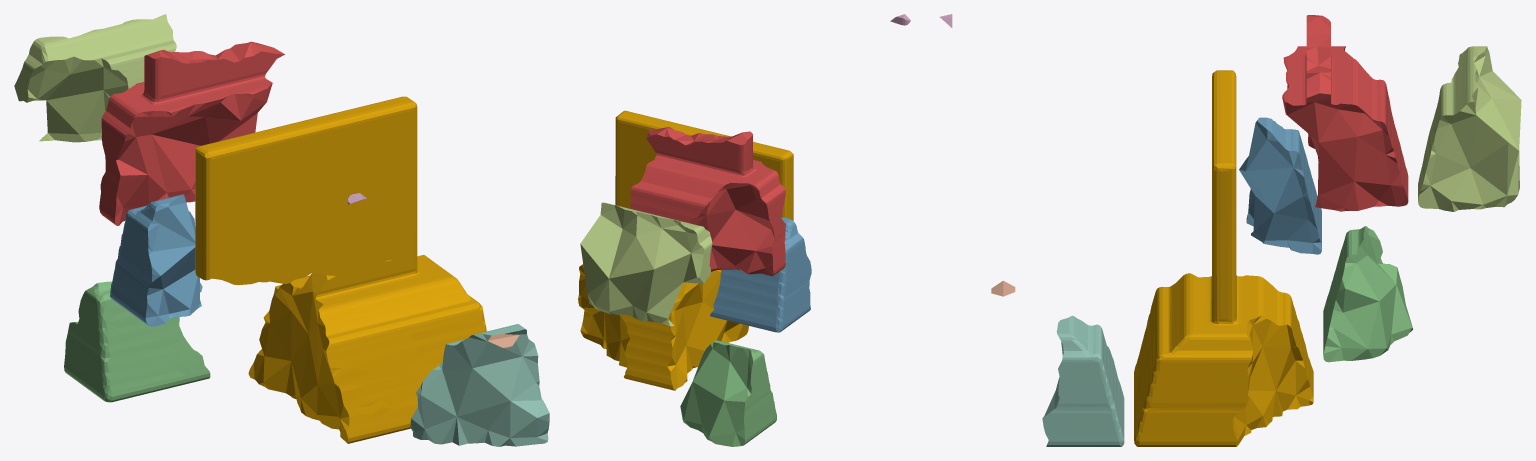
Rendered from fractured_12_8pcs_transformed.glb.
3 renders of one model, left to right at view 1: azimuth 30°, elevation 25°; view 2: azimuth 150°, elevation 25°; view 3: azimuth 270°, elevation 25°, orthographic. The views are drawn at different scales.
Parts seen in each view (by area): view 1: piece_0.obj, piece_1.obj, piece_4.obj, piece_5.obj, piece_3.obj, piece_2.obj; view 2: piece_1.obj, piece_0.obj, piece_5.obj, piece_3.obj, piece_2.obj; view 3: piece_0.obj, piece_1.obj, piece_5.obj, piece_3.obj, piece_2.obj, piece_4.obj.
Boxes of the visible parts, left/top/right/bottom form: piece_0.obj: left=195, top=96, right=486, bottom=443; piece_1.obj: left=99, top=41, right=284, bottom=225; piece_4.obj: left=410, top=324, right=549, bottom=446; piece_5.obj: left=14, top=14, right=176, bottom=142; piece_3.obj: left=64, top=281, right=210, bottom=402; piece_2.obj: left=110, top=194, right=202, bottom=326; piece_1.obj: left=630, top=127, right=785, bottom=276; piece_0.obj: left=578, top=110, right=793, bottom=390; piece_5.obj: left=580, top=202, right=712, bottom=326; piece_3.obj: left=680, top=340, right=776, bottom=446; piece_2.obj: left=710, top=217, right=811, bottom=332; piece_0.obj: left=1134, top=70, right=1313, bottom=446; piece_1.obj: left=1282, top=15, right=1408, bottom=211; piece_5.obj: left=1418, top=46, right=1521, bottom=211; piece_3.obj: left=1323, top=226, right=1412, bottom=362; piece_2.obj: left=1239, top=117, right=1321, bottom=254; piece_4.obj: left=1042, top=315, right=1124, bottom=446.
Bounding box in the file's own units: 1 × 1.13 × 1.85.
